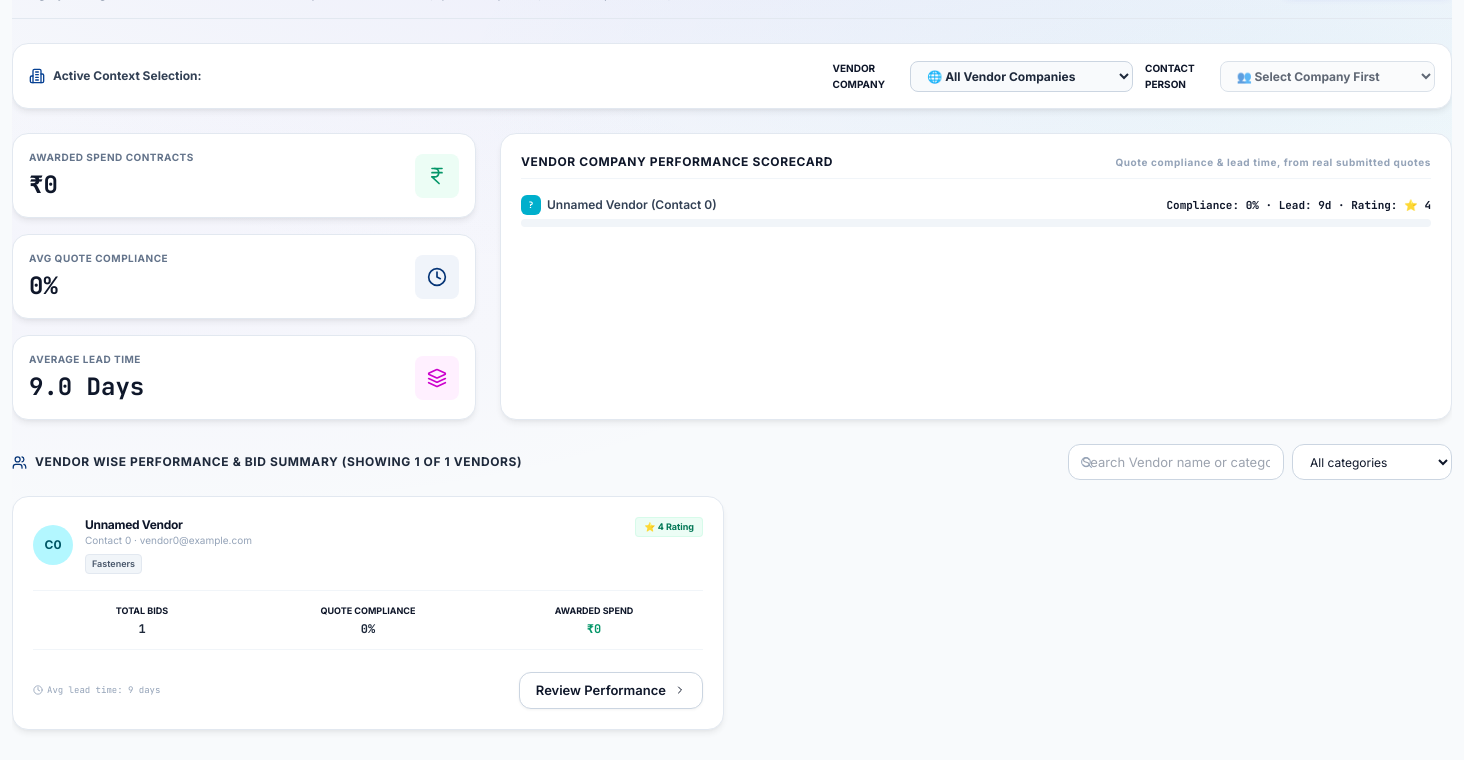
Test: VendorConsole — pagination over a large vendor roster › falls back to a placeholder avatar/label when a vendor has no name, and shows the amber badge for a non-Fully-Compliant quote
Expected: the text "Unnamed Vendor" is shown, 85,517 -> 183,532
Click the button "Review Performance".
click(611, 690)  # box 519,672 -> 703,709
(page scrolled)
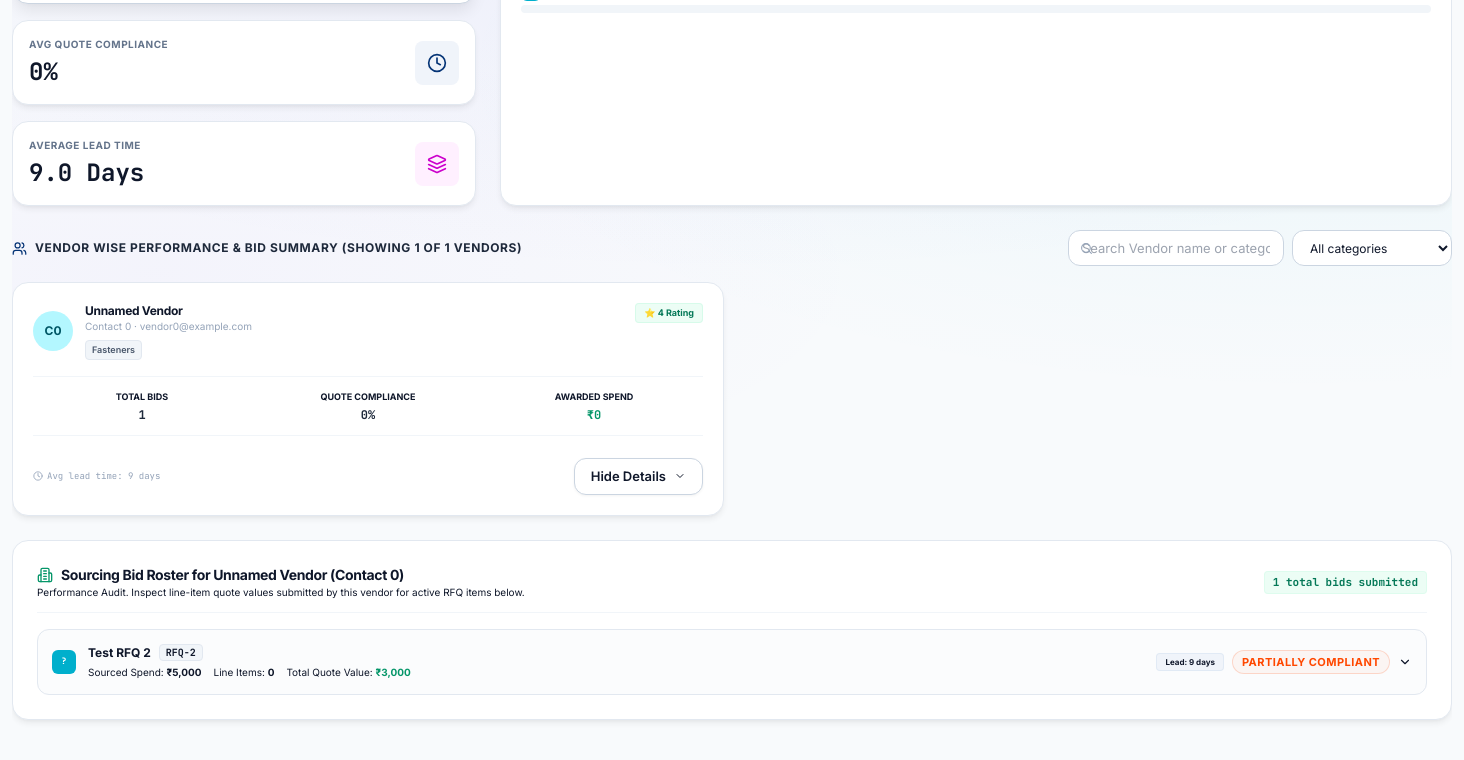
Expected: the text "Partially Compliant" is shown, 1232,650 -> 1390,674
